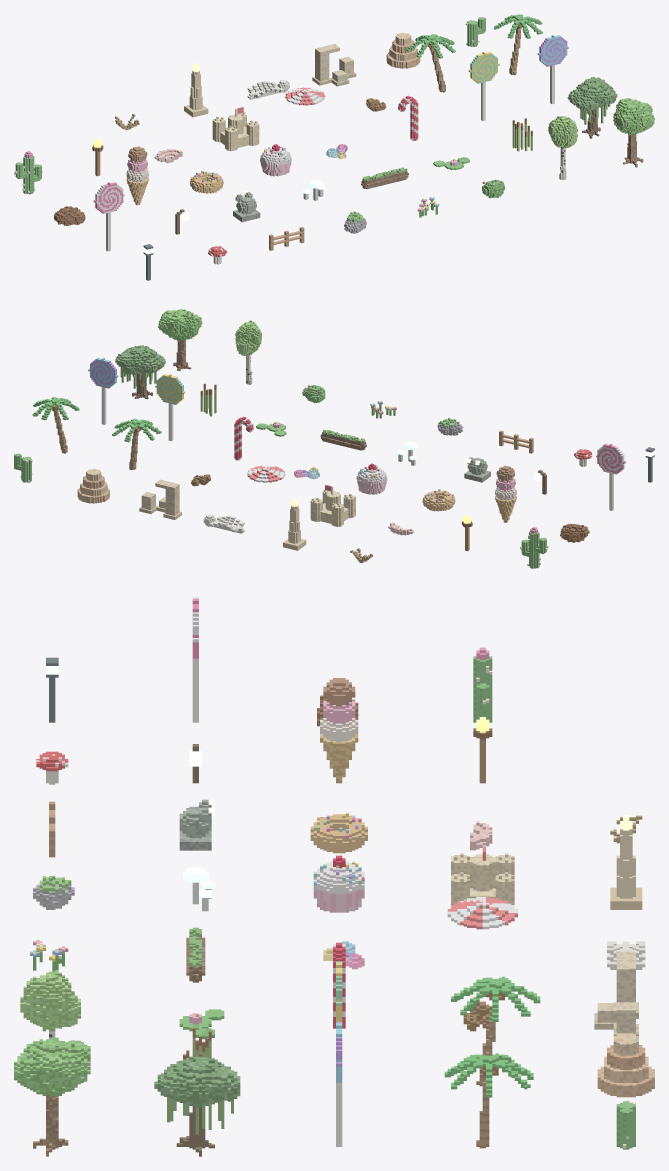
The model's file is WorldKitA.glb.
3 views of the same model, one above another, from view 1: azimuth 30°, elevation 25°; view 2: azimuth 150°, elevation 25°; view 3: azimuth 270°, elevation 25° (orthographic). The views are drawn at different scales.
Visible parts, largest first — view 1: PrairieOak_Leaves__x4e983b, CocoSandcastle_Sand__xf1daa0, CocoSandcastle_Sand__xf0d696, MarshWillow_Leaves__x3e6836, CocoSandcastle_Sand__xceb881, MarshWillow_Leaves__x4c8042, DesertCactus1_Cactus__x5aaa50, CocoPalm2_Fronds__x46aa46, CocoPalm1_Fronds__x46aa46, DesertBones_Bones__xf5f0e1, SugarDonut_Dough__xdca05a, PrairieBirch_Leaves__x67a846 (+16 smaller); view 2: MarshWillow_Leaves__x3e6836, CocoSandcastle_Sand__xf1daa0, CocoSandcastle_Sand__xf0d696, PrairieOak_Leaves__x4e983b, CocoSandcastle_Sand__xceb881, DesertCactus1_Cactus__x5aaa50, MarshWillow_Leaves__x4c8042, CocoPalm1_Fronds__x46aa46, CocoPalm2_Fronds__x46aa46, DesertBones_Bones__xf5f0e1, SugarDonut_Dough__xdca05a, PrairieOak_Leaves__x60ba48 (+14 smaller); view 3: MarshWillow_Leaves__x3e6836, PrairieOak_Leaves__x4e983b, CocoPalm2_Fronds__x46aa46, CocoPalm1_Fronds__x46aa46, SugarDonut_Dough__xdca05a, MarshWillow_Leaves__x4c8042, PrairieBirch_Leaves__x67a846, PrairieOak_Leaves__x60ba48, PrairieOak_Leaves__x73c25d, CocoSandcastle_Sand__xceb881, CocoSandcastle_Sand__xf1daa0, SugarCupcake_Frosting__xfff5fa (+12 smaller).
Boxes of the visible parts, x1,y1,x2,y2 form: PrairieOak_Leaves__x4e983b: (613, 98, 654, 135); CocoSandcastle_Sand__xf1daa0: (212, 112, 259, 151); CocoSandcastle_Sand__xf0d696: (212, 113, 259, 150); MarshWillow_Leaves__x3e6836: (569, 77, 615, 110); CocoSandcastle_Sand__xceb881: (212, 113, 259, 149); MarshWillow_Leaves__x4c8042: (568, 77, 617, 111); DesertCactus1_Cactus__x5aaa50: (15, 155, 41, 194); CocoPalm2_Fronds__x46aa46: (406, 34, 455, 58); CocoPalm1_Fronds__x46aa46: (494, 14, 542, 38); DesertBones_Bones__xf5f0e1: (247, 79, 289, 99); SugarDonut_Dough__xdca05a: (190, 172, 223, 193); PrairieBirch_Leaves__x67a846: (548, 116, 577, 148); MarshWillow_Leaves__x3e6836: (115, 346, 165, 374); CocoSandcastle_Sand__xf1daa0: (310, 489, 355, 526); CocoSandcastle_Sand__xf0d696: (310, 490, 355, 526); PrairieOak_Leaves__x4e983b: (158, 309, 201, 341); CocoSandcastle_Sand__xceb881: (310, 490, 355, 526); DesertCactus1_Cactus__x5aaa50: (521, 531, 546, 568); MarshWillow_Leaves__x4c8042: (116, 345, 164, 374); CocoPalm1_Fronds__x46aa46: (32, 397, 79, 420); CocoPalm2_Fronds__x46aa46: (112, 418, 161, 442); DesertBones_Bones__xf5f0e1: (203, 514, 244, 533); SugarDonut_Dough__xdca05a: (422, 490, 455, 511); PrairieOak_Leaves__x60ba48: (159, 309, 201, 340); MarshWillow_Leaves__x3e6836: (154, 1056, 240, 1107); PrairieOak_Leaves__x4e983b: (14, 1037, 90, 1097); CocoPalm2_Fronds__x46aa46: (451, 976, 540, 1021); CocoPalm1_Fronds__x46aa46: (444, 1053, 533, 1097); SugarDonut_Dough__xdca05a: (310, 814, 367, 853); MarshWillow_Leaves__x4c8042: (154, 1056, 240, 1105); PrairieBirch_Leaves__x67a846: (20, 970, 80, 1031); PrairieOak_Leaves__x60ba48: (14, 1039, 90, 1092); PrairieOak_Leaves__x73c25d: (14, 1040, 90, 1094); CocoSandcastle_Sand__xceb881: (451, 854, 514, 904); CocoSandcastle_Sand__xf1daa0: (451, 853, 514, 904); SugarCupcake_Frosting__xfff5fa: (313, 861, 364, 893).
Size of the model in its own units: 34.4 by 4.4 by 20.1.
